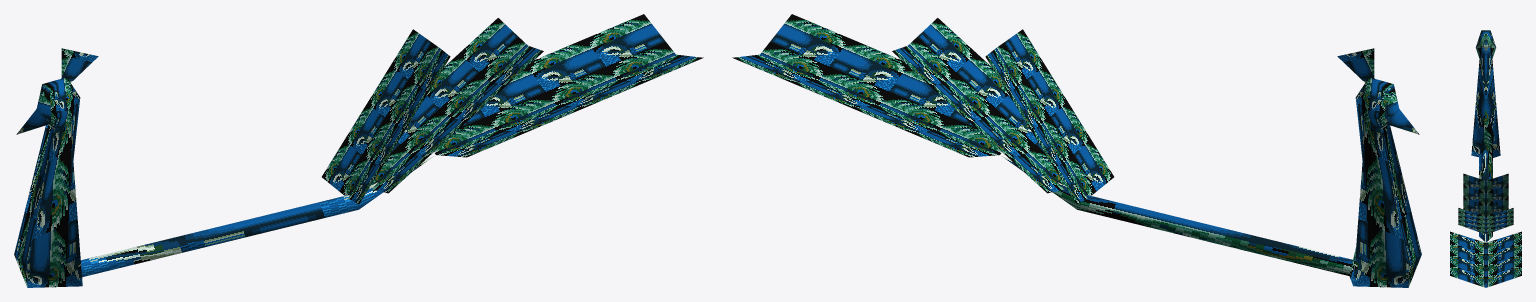
Rendered from 1335sbim03_18_c.gltf.
The picture shows the model from 3 angles, left to right: view 1: azimuth 30°, elevation 25°; view 2: azimuth 150°, elevation 25°; view 3: azimuth 270°, elevation 25°; orthographic projection. The views are drawn at different scales.
Parts seen in each view (by area): view 1: 1335sbim03_18_c; view 2: 1335sbim03_18_c; view 3: 1335sbim03_18_c.
Boxes of the visible parts, x1,y1,x2,y2 form: 1335sbim03_18_c: (14,14,703,287); 1335sbim03_18_c: (732,14,1421,287); 1335sbim03_18_c: (1450,30,1521,287).
Size of the model in its own units: 1.96 by 0.6567 by 0.3081.
Materials: 1 (1 with a texture image).
